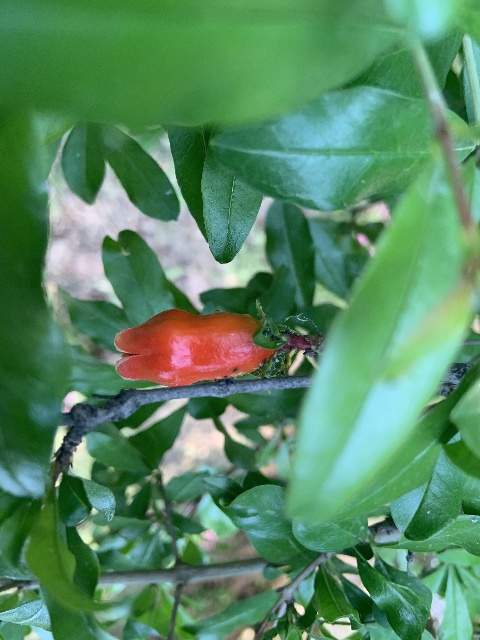flower: (113, 308, 275, 387)
